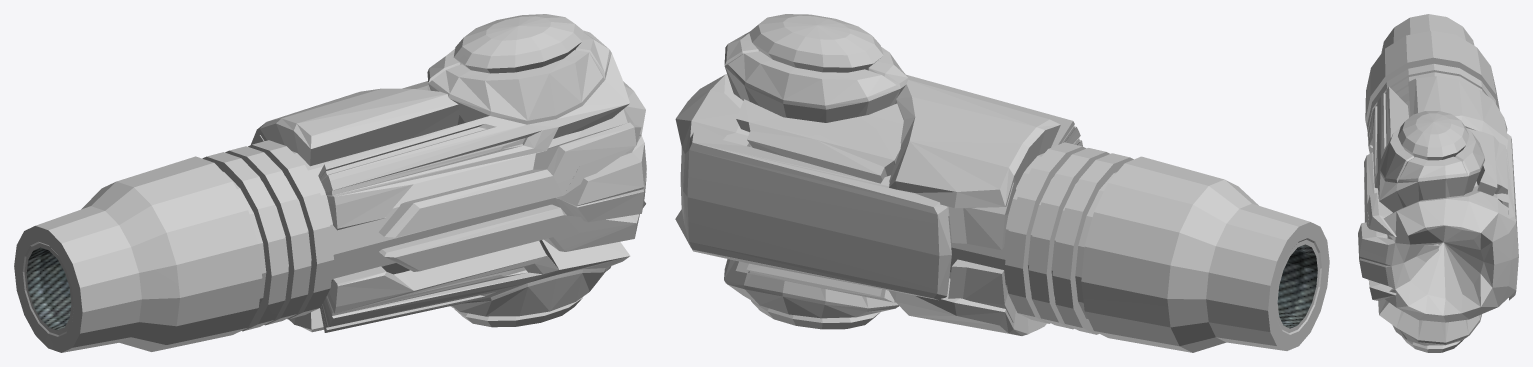
Rendered from armcannon.gltf.
The picture shows the model from 3 angles, left to right: view 1: azimuth 30°, elevation 25°; view 2: azimuth 150°, elevation 25°; view 3: azimuth 270°, elevation 25°; orthographic projection. The views are drawn at different scales.
Visible parts, largest first — view 1: 5596be79_CMDL; view 2: 5596be79_CMDL; view 3: 5596be79_CMDL.
Part boxes in pixels (left/top/right/bottom): 5596be79_CMDL: left=14, top=14, right=646, bottom=352; 5596be79_CMDL: left=675, top=14, right=1329, bottom=352; 5596be79_CMDL: left=1358, top=14, right=1518, bottom=352.
Size of the model in its own units: 0.6106 by 0.29 by 0.1944.
